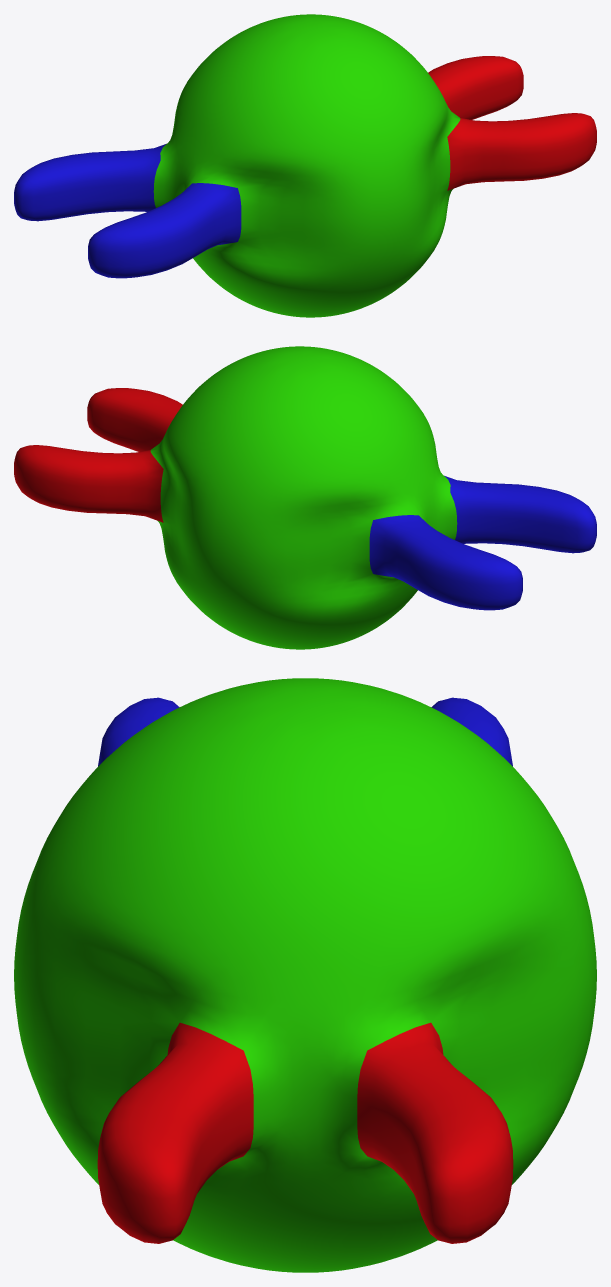
Rendered from Magnetismo.fbx.
3 renders of one model, top to bottom at view 1: azimuth 30°, elevation 25°; view 2: azimuth 150°, elevation 25°; view 3: azimuth 270°, elevation 25°, orthographic. The views are drawn at different scales.
Visible parts, largest first — view 1: Sphere; view 2: Sphere; view 3: Sphere.
Part boxes in pixels (left/top/right/bottom): Sphere: left=14, top=14, right=596, bottom=317; Sphere: left=14, top=346, right=596, bottom=649; Sphere: left=14, top=678, right=596, bottom=1272.
Size of the model in its own units: 382 by 199 by 194.
